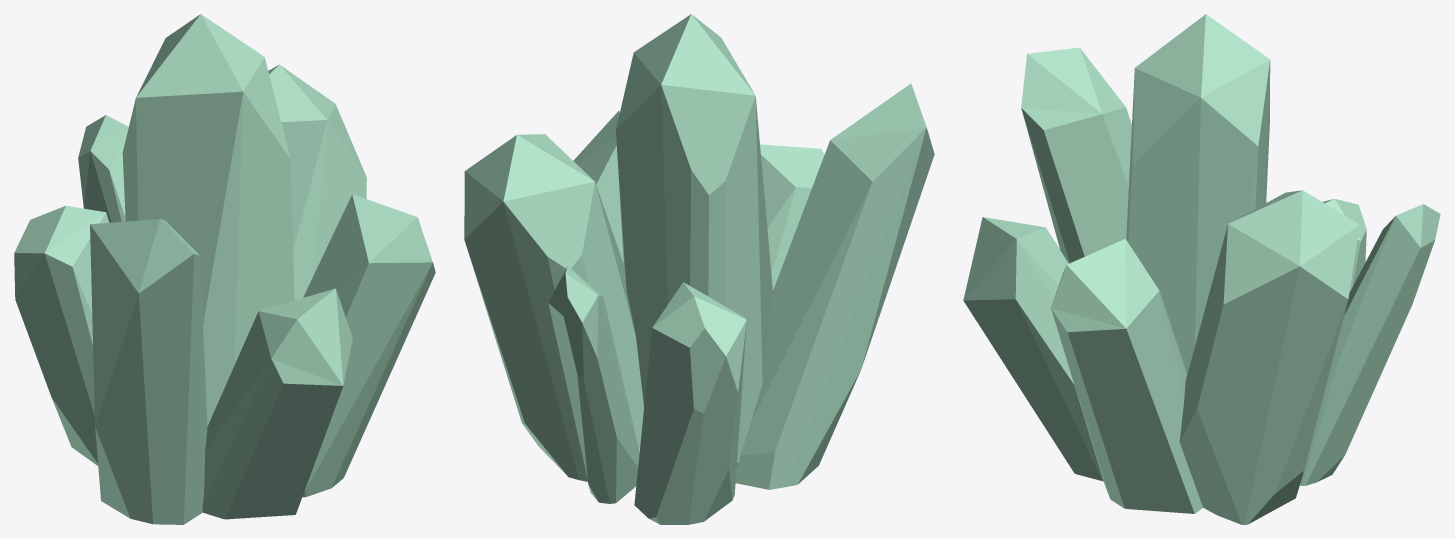
File: quartz.glb
3 views of the same model, side by side, from view 1: azimuth 30°, elevation 25°; view 2: azimuth 150°, elevation 25°; view 3: azimuth 270°, elevation 25° (orthographic). The views are drawn at different scales.
Parts seen in each view (by area): view 1: Cube; view 2: Cube; view 3: Cube.
Boxes of the visible parts, x1,y1,x2,y2 form: Cube: (14,14,435,524); Cube: (464,14,934,524); Cube: (963,14,1440,524).
Bounding box in the file's own units: 1.78 × 2.17 × 2.1.
